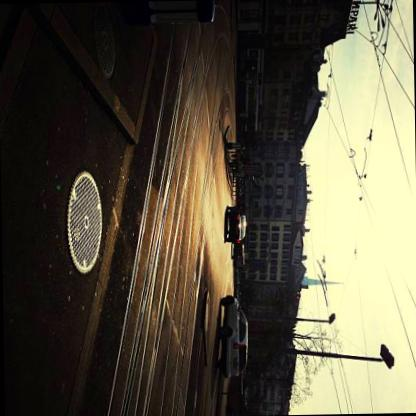manholes: (57, 156, 111, 296), (81, 2, 131, 92)
